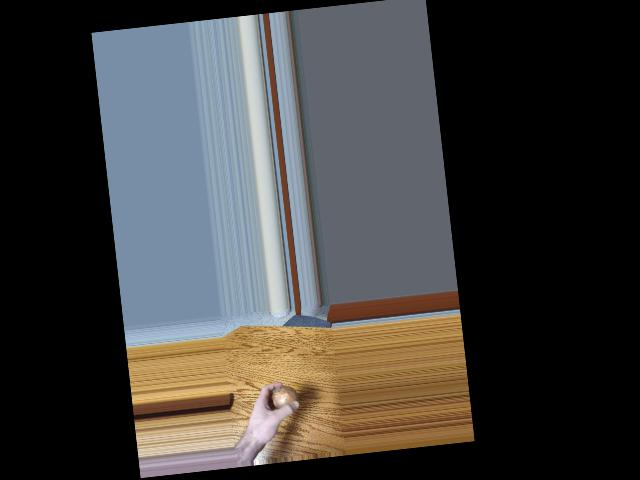onion: (271, 383, 298, 413)
